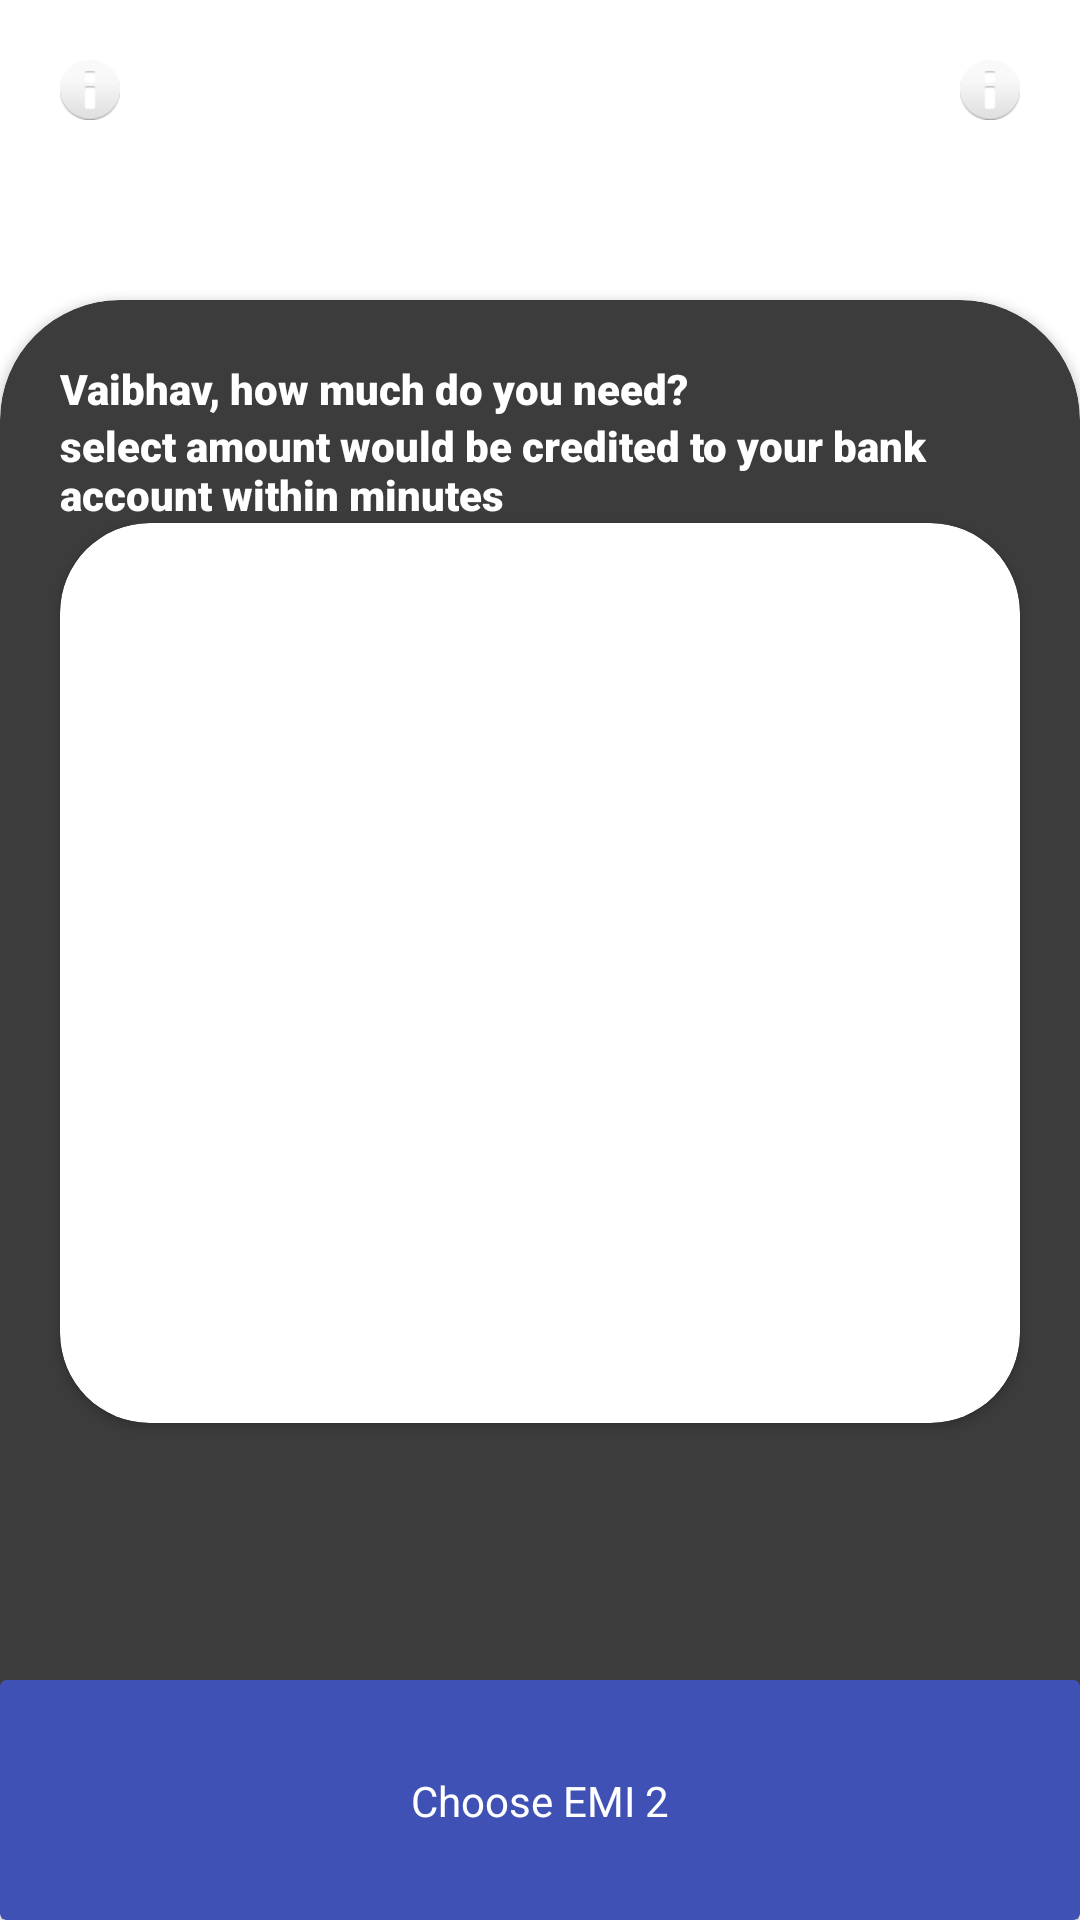

Locate icon controls on the screen. Image size 1080w x 1920h, boxes as [left=x1, top=y1, right=x2, bottom=y2].
info: [left=60, top=71, right=120, bottom=120], [left=960, top=71, right=1020, bottom=120]
